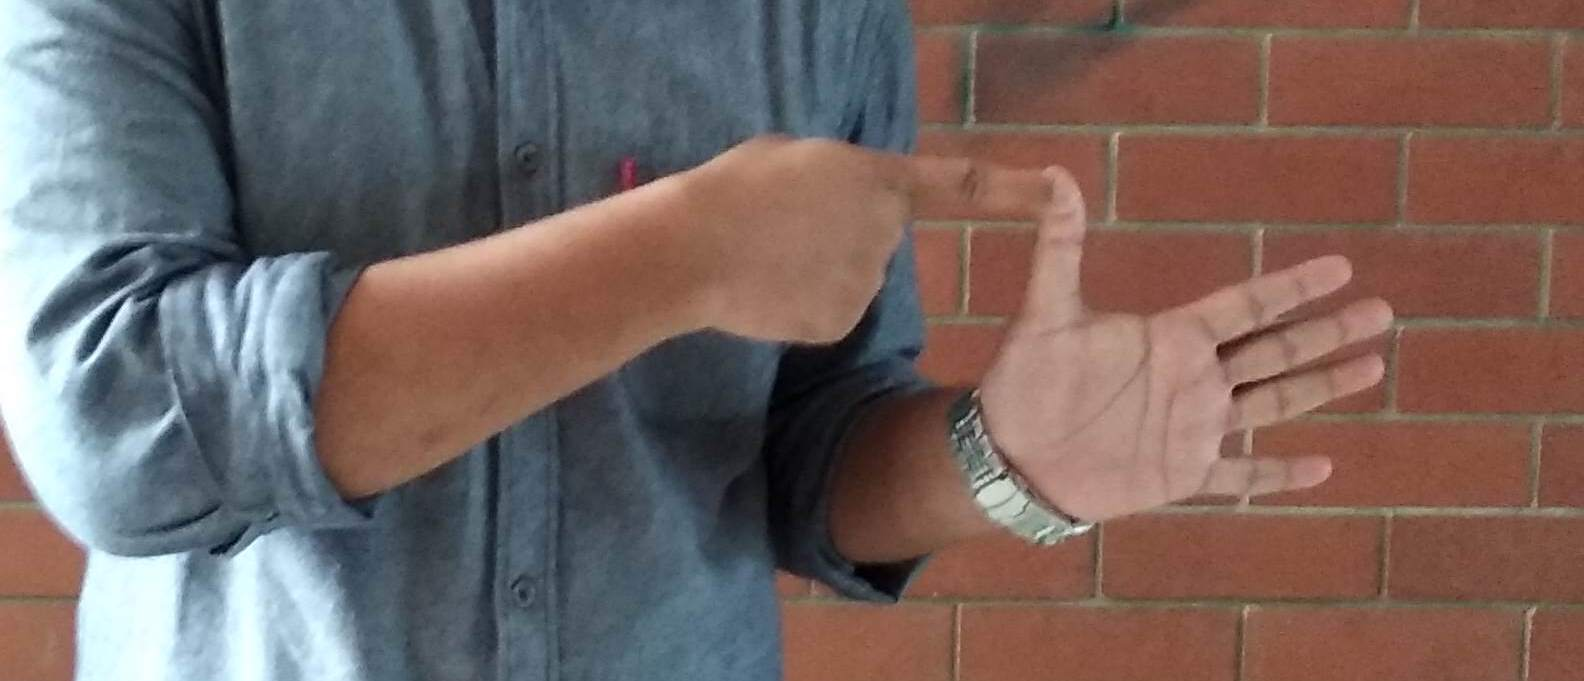a: (763, 126, 1386, 559)
